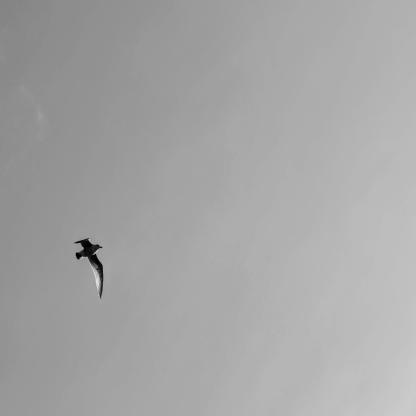bird: (73, 238, 104, 300)
